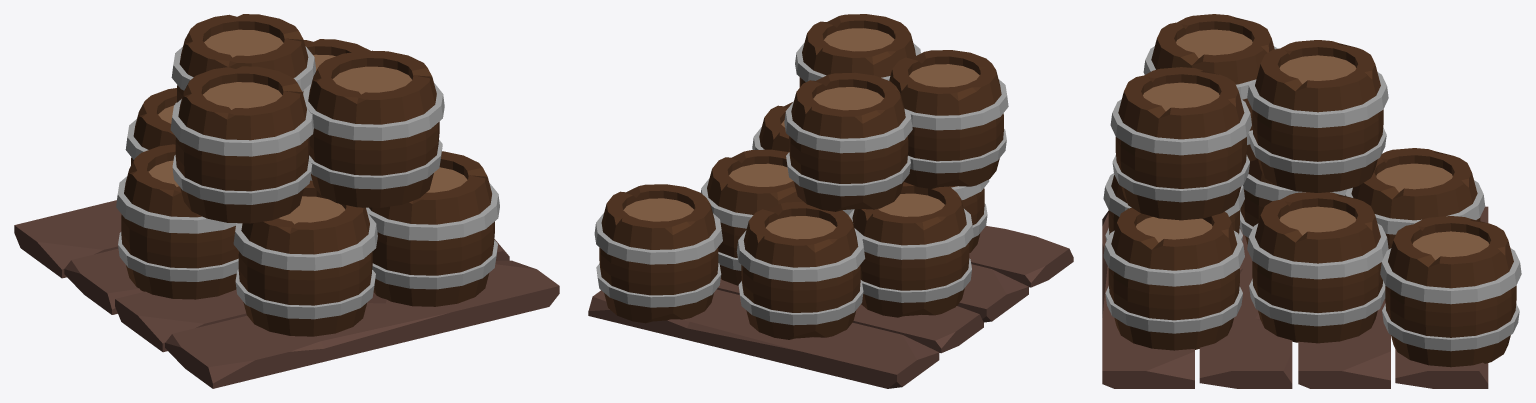
Rendered from MediumBarrelBoxes.fbx.
3 renders of one model, left to right at view 1: azimuth 30°, elevation 25°; view 2: azimuth 150°, elevation 25°; view 3: azimuth 270°, elevation 25°, orthographic. The views are drawn at different scales.
Visible parts, largest first — view 1: Barrels, WoodenBox; view 2: Barrels, WoodenBox; view 3: Barrels, WoodenBox.
Part boxes in pixels (box(x1,y1,x2,y2)): Barrels: box(116, 14, 499, 336); WoodenBox: box(14, 200, 559, 388); Barrels: box(594, 14, 1008, 339); WoodenBox: box(588, 226, 1073, 388); Barrels: box(1103, 14, 1521, 367); WoodenBox: box(1102, 206, 1488, 388).
Bounding box in the file's own units: 205 × 132 × 219.
